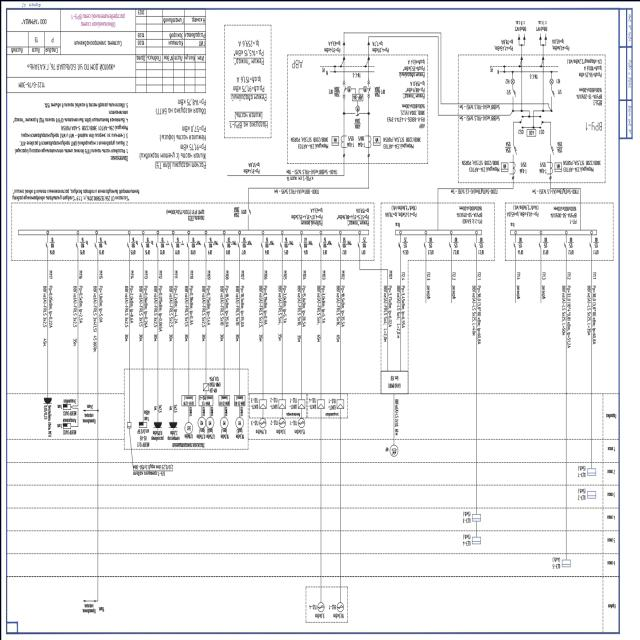-: (461, 158, 498, 172), (562, 159, 600, 171), (574, 84, 602, 99), (518, 160, 526, 173), (538, 161, 546, 173), (504, 140, 510, 152), (556, 140, 562, 152), (528, 129, 534, 135)
HL: (548, 78, 552, 84), (510, 78, 514, 84)
QF: (549, 142, 553, 156), (512, 142, 516, 156), (511, 87, 516, 97), (550, 87, 554, 97)
TT: (508, 160, 515, 174), (546, 160, 552, 174)
WH: (500, 160, 508, 172), (553, 161, 561, 172)
switch: (518, 114, 524, 128), (537, 114, 543, 128)
